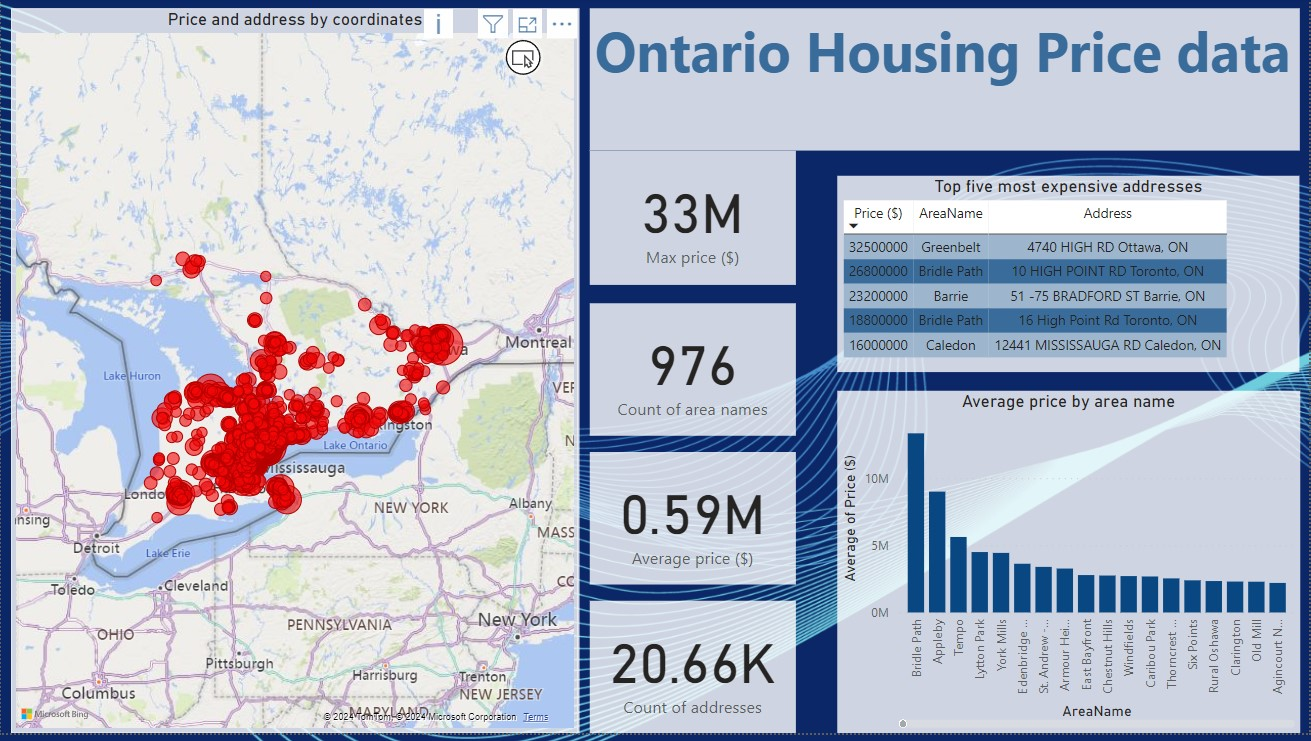

What the dashboard file says about the page in this screenshot:
{"tool":"powerbi","page":{"name":"Page 1","canvas":[1280,720],"ordinal":0},"visuals":[{"type":"map","title":"Price and address by coordinates","fields":{"Y":["properties_cleaned.lat"],"X":["properties_cleaned.lng"],"Size":["Sum(properties_cleaned.Price ($))"]},"box":[9.6,11,555.7,709.4],"z":0},{"type":"card","fields":{"Values":["Max(properties_cleaned.Price ($))"]},"box":[576,444.7,201.5,129.6],"z":0,"group":"g1"},{"type":"card","fields":{"Values":["Avg(properties_cleaned.Price ($))"]},"box":[576,150.4,201.5,131.1],"z":1000,"group":"g1"},{"type":"card","fields":{"Values":["Count(properties_cleaned.AreaName)"]},"box":[576,299.2,201.5,129.6],"z":2000,"group":"g1"},{"type":"clusteredColumnChart","title":"Average price by area name","fields":{"Y":["Avg(properties_cleaned.Price ($))"],"Category":["properties_cleaned.AreaName"]},"box":[817.8,385.6,452.8,334.8],"z":2000},{"type":"tableEx","title":"Top five most expensive addresses","fields":{"Values":["properties_cleaned.Price ($)","properties_cleaned.AreaName","properties_cleaned.Address"]},"box":[817.8,174.8,452.3,191.9],"z":3000},{"type":"card","fields":{"Values":["Count(properties_cleaned.Address)"]},"box":[575.8,590.2,201.5,131.1],"z":3000,"group":"g1"},{"type":"textbox","box":[575.8,11,694.3,139.4],"z":4000},{"type":"group","id":"g1","title":"Group 1","box":[575.8,150.4,201.7,570.9],"z":5000}]}

Visuals, with their boxes in screenshot pixels (x1, y1, x2, y2), scaled from the page's 1280x720 canvas onto the 1311x741 screenshot:
"Price and address by coordinates" map: (left=10, top=11, right=579, bottom=740)
card - Max(properties_cleaned.Price ($)): (left=590, top=458, right=796, bottom=591)
card - Avg(properties_cleaned.Price ($)): (left=590, top=155, right=796, bottom=290)
card - Count(properties_cleaned.AreaName): (left=590, top=308, right=796, bottom=441)
"Average price by area name" clusteredColumnChart: (left=838, top=397, right=1301, bottom=740)
"Top five most expensive addresses" tableEx: (left=838, top=180, right=1301, bottom=377)
card - Count(properties_cleaned.Address): (left=590, top=607, right=796, bottom=740)
textbox: (left=590, top=11, right=1301, bottom=155)
"Group 1" group: (left=590, top=155, right=796, bottom=740)
